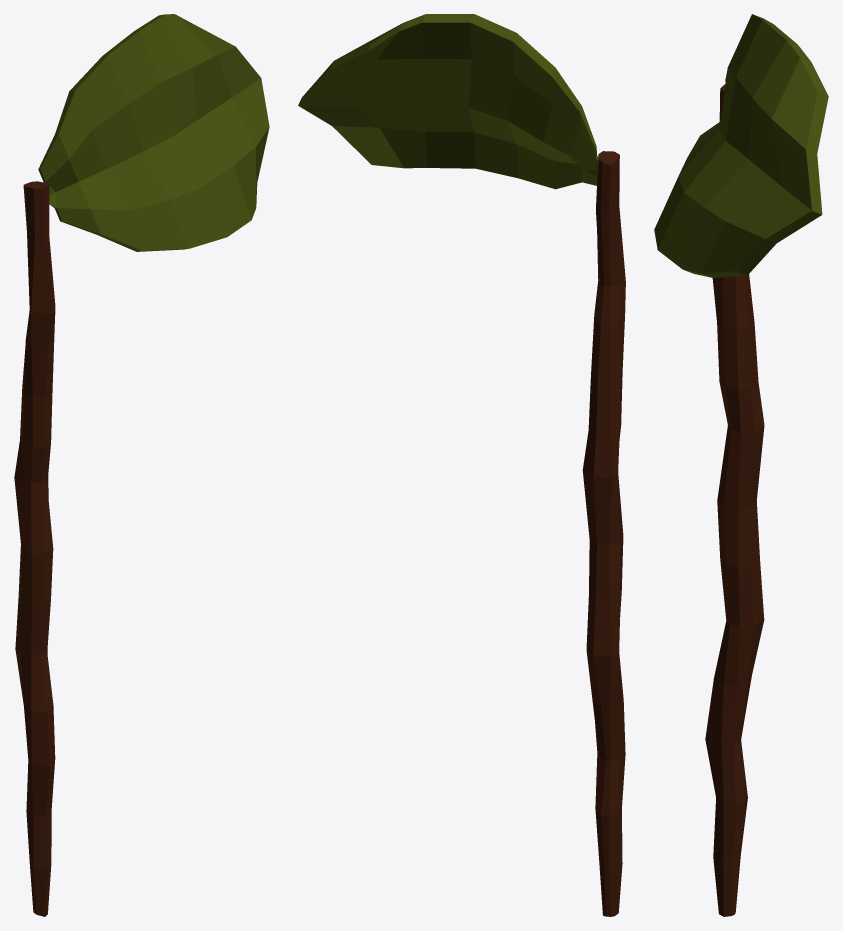
The model's file is Staff.fbx.
The picture shows the model from 3 angles, left to right: view 1: azimuth 30°, elevation 25°; view 2: azimuth 150°, elevation 25°; view 3: azimuth 270°, elevation 25°; orthographic projection. The views are drawn at different scales.
Parts seen in each view (by area): view 1: Cylinder; view 2: Cylinder; view 3: Cylinder.
Boxes of the visible parts, bbox=[...] form: Cylinder: bbox=[14, 14, 269, 916]; Cylinder: bbox=[298, 14, 625, 916]; Cylinder: bbox=[654, 14, 828, 916].
Size of the model in its own units: 515 by 1527 by 252.
